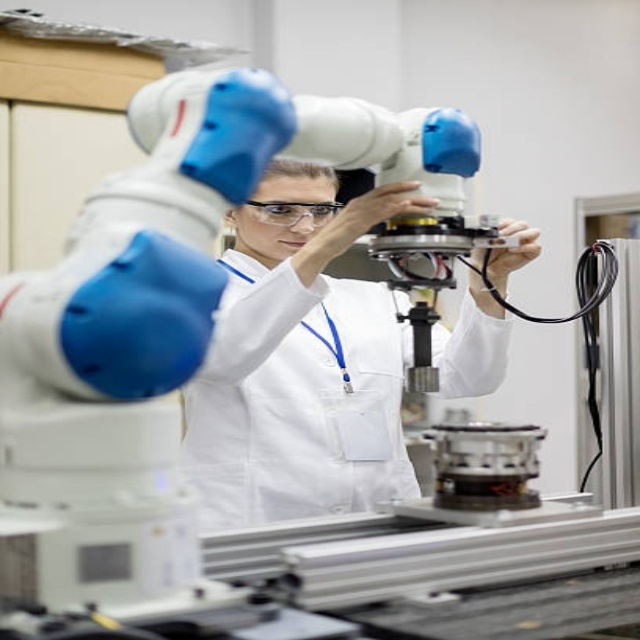Gafas: (244, 200, 345, 229)
Sin_guantes: (333, 178, 445, 254), (470, 219, 543, 280)
Sin_mascara: (270, 235, 307, 252)
